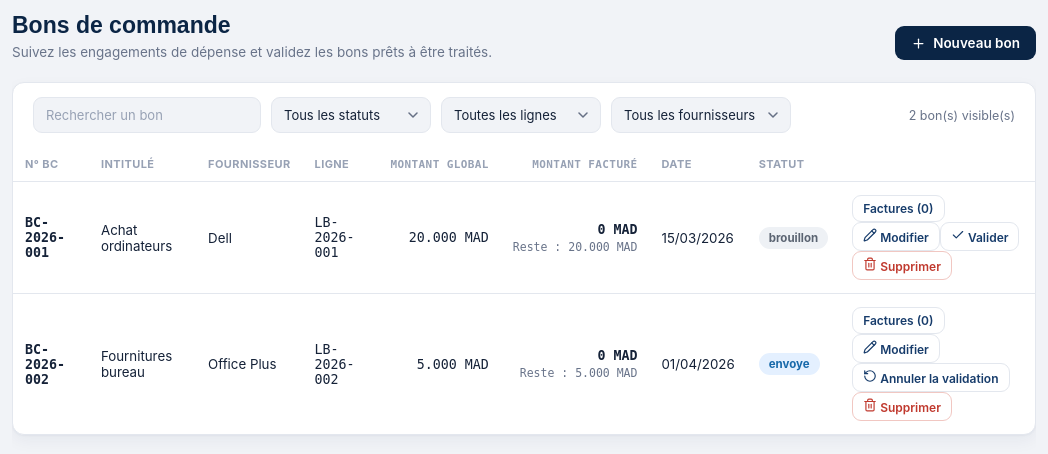
Test: BonsCommande › filtre les bons par statut
Expected: the text "BC-2026-001" is shown, [25, 215, 65, 260]
Select "envoye" in the 1st dropdown at (351, 115), box [271, 97, 431, 133]
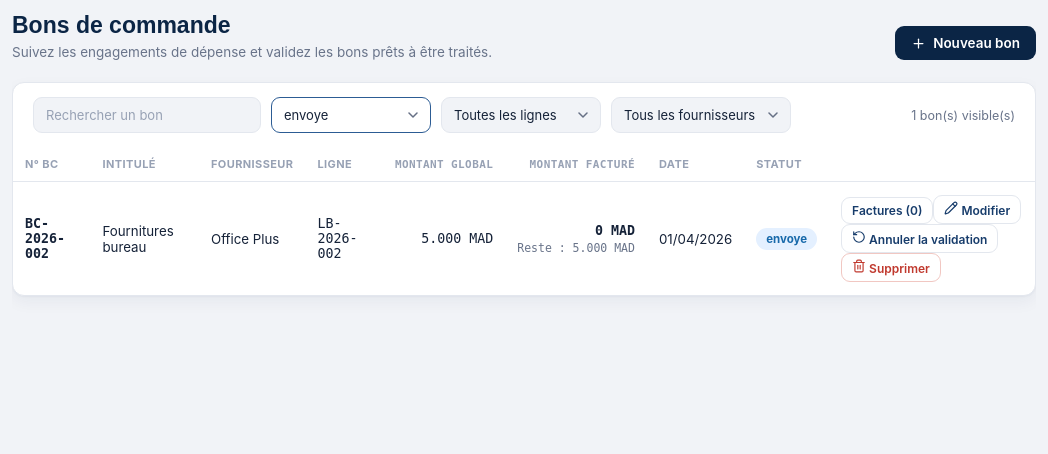
Expected: the text "BC-2026-002" is shown, [25, 216, 65, 261]
Result: the text "BC-2026-001" is gone
Result: the text "1 bon(s) visible(s)" is shown at [911, 108, 1015, 122]
